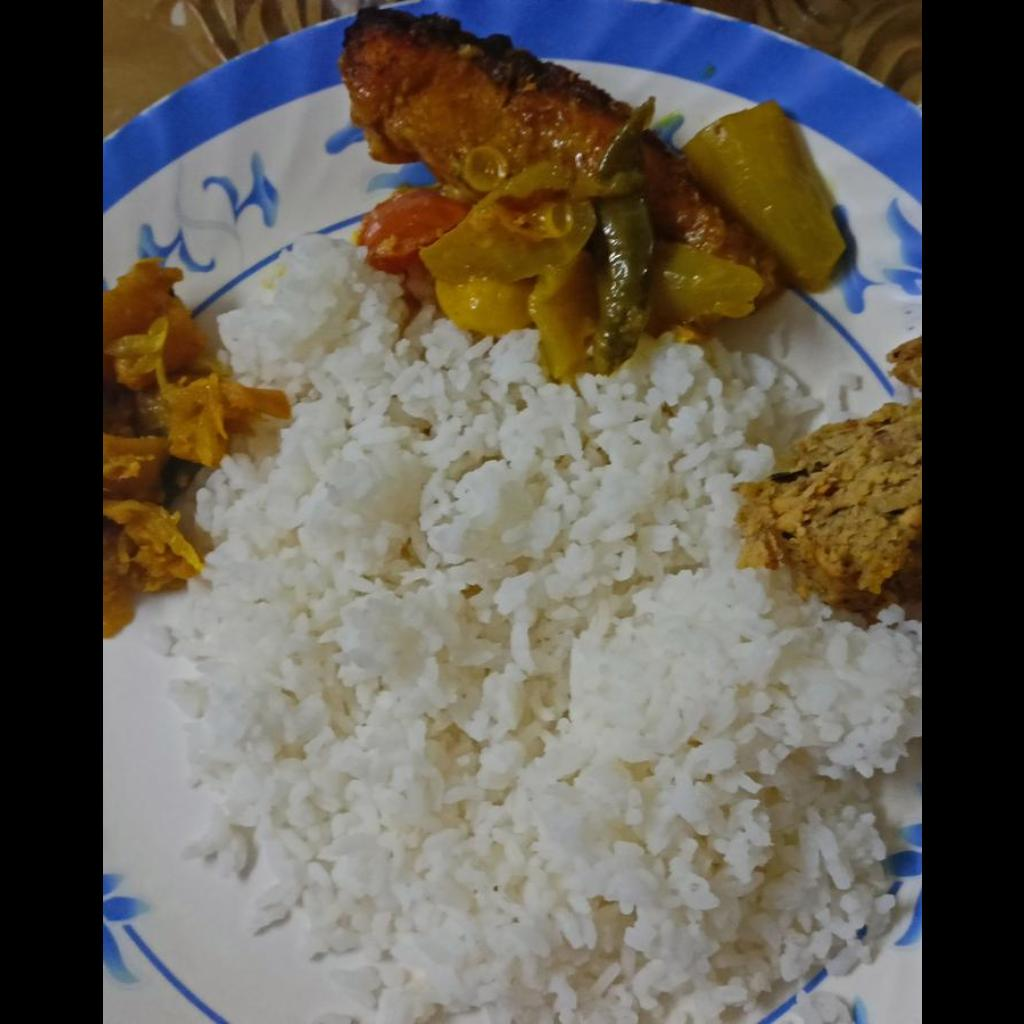dundol: (355, 162, 764, 380), (682, 104, 843, 290)
fish: (343, 1, 761, 267)
rice: (166, 236, 920, 1022)
tomato: (102, 258, 290, 637)
vorta: (740, 334, 920, 608)
